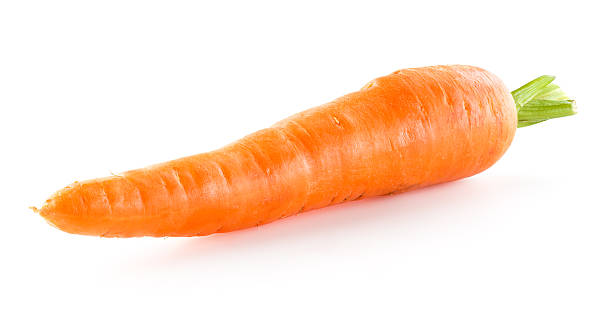carrot: (24, 6, 575, 292)
